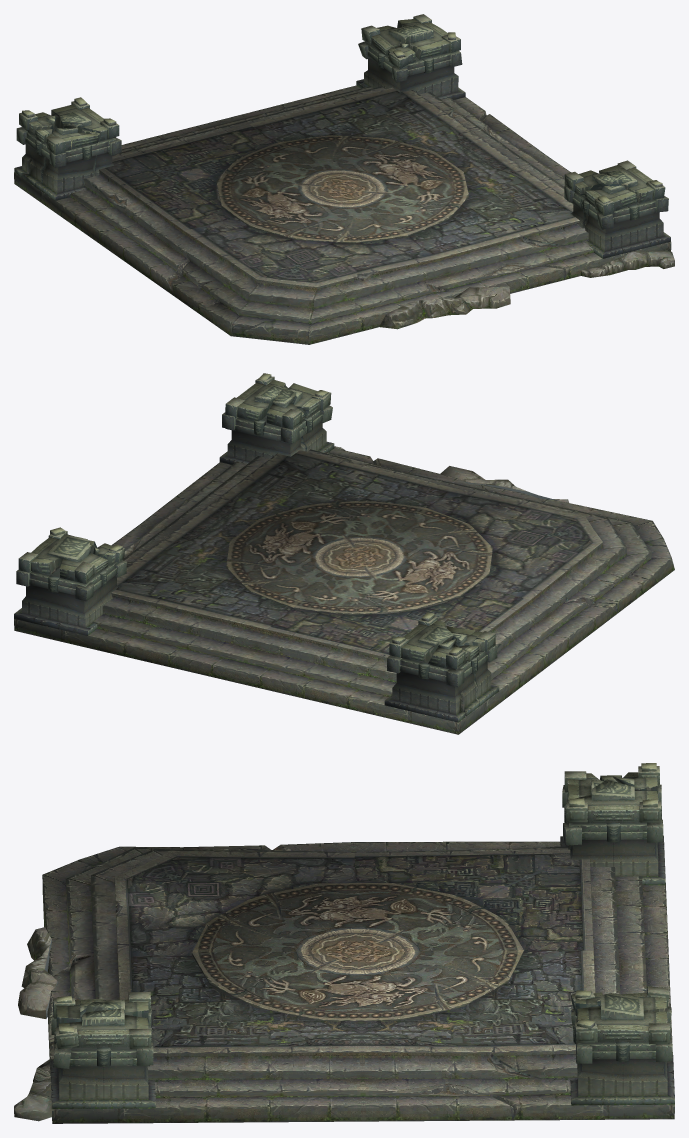
3 renders of one model, top to bottom at view 1: azimuth 30°, elevation 25°; view 2: azimuth 150°, elevation 25°; view 3: azimuth 270°, elevation 25°, orthographic. The views are drawn at different scales.
Parts seen in each view (by area): view 1: A_ST_07; view 2: A_ST_07; view 3: A_ST_07.
Part boxes in pixels (bbox=[...]): A_ST_07: bbox=[14, 14, 674, 344]; A_ST_07: bbox=[14, 373, 674, 734]; A_ST_07: bbox=[14, 763, 674, 1123].
Size of the model in its own units: 597 by 102 by 622.
